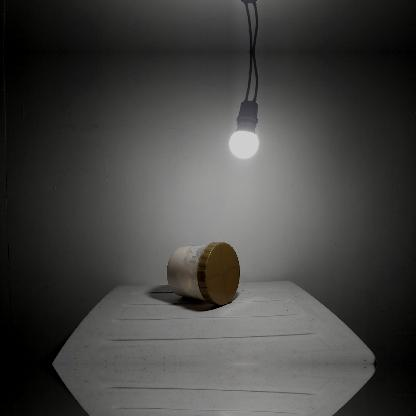Lady-s-Choice: (166, 241, 240, 305)
